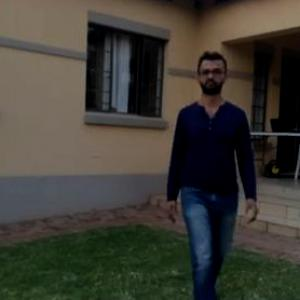follow: (165, 45, 252, 299)
